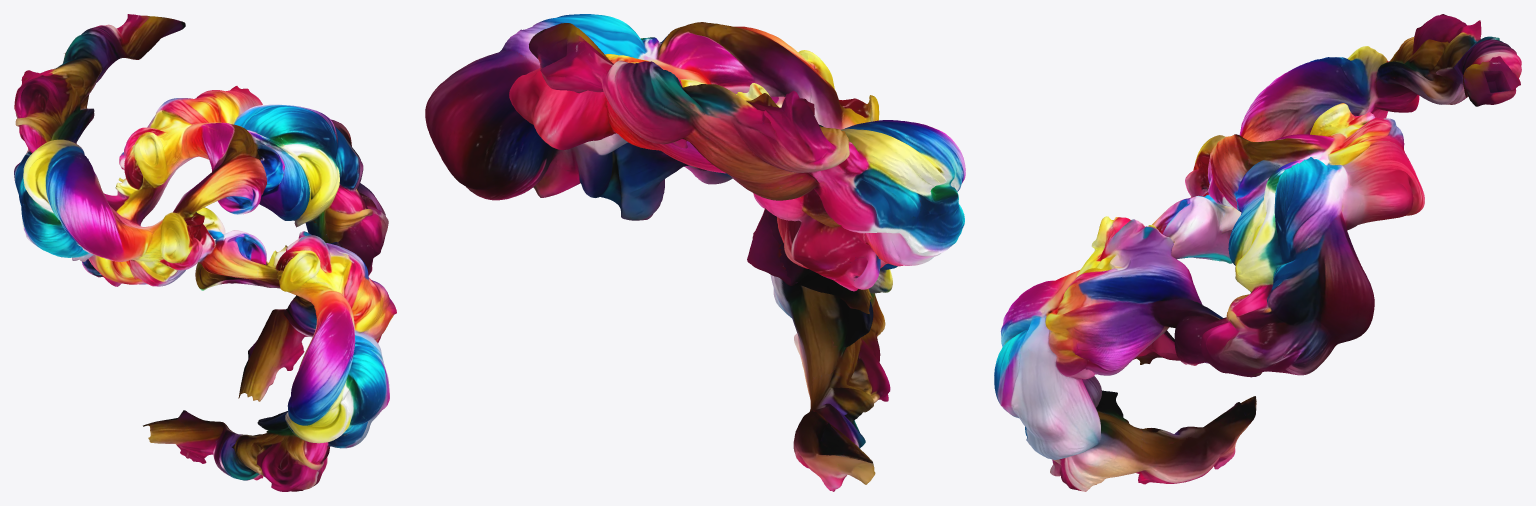
File: hair_1.glb
3 views of the same model, side by side, from view 1: azimuth 30°, elevation 25°; view 2: azimuth 150°, elevation 25°; view 3: azimuth 270°, elevation 25° (orthographic). The views are drawn at different scales.
Visible parts, largest first — view 1: model; view 2: model; view 3: model.
Part boxes in pixels (box(x1,y1,x2,y2)): model: box(14, 14, 396, 491); model: box(425, 14, 965, 491); model: box(994, 14, 1521, 491).
Bounding box in the file's own units: 0.2894 × 0.3 × 0.3248.
Materials: 1 (1 with a texture image).
